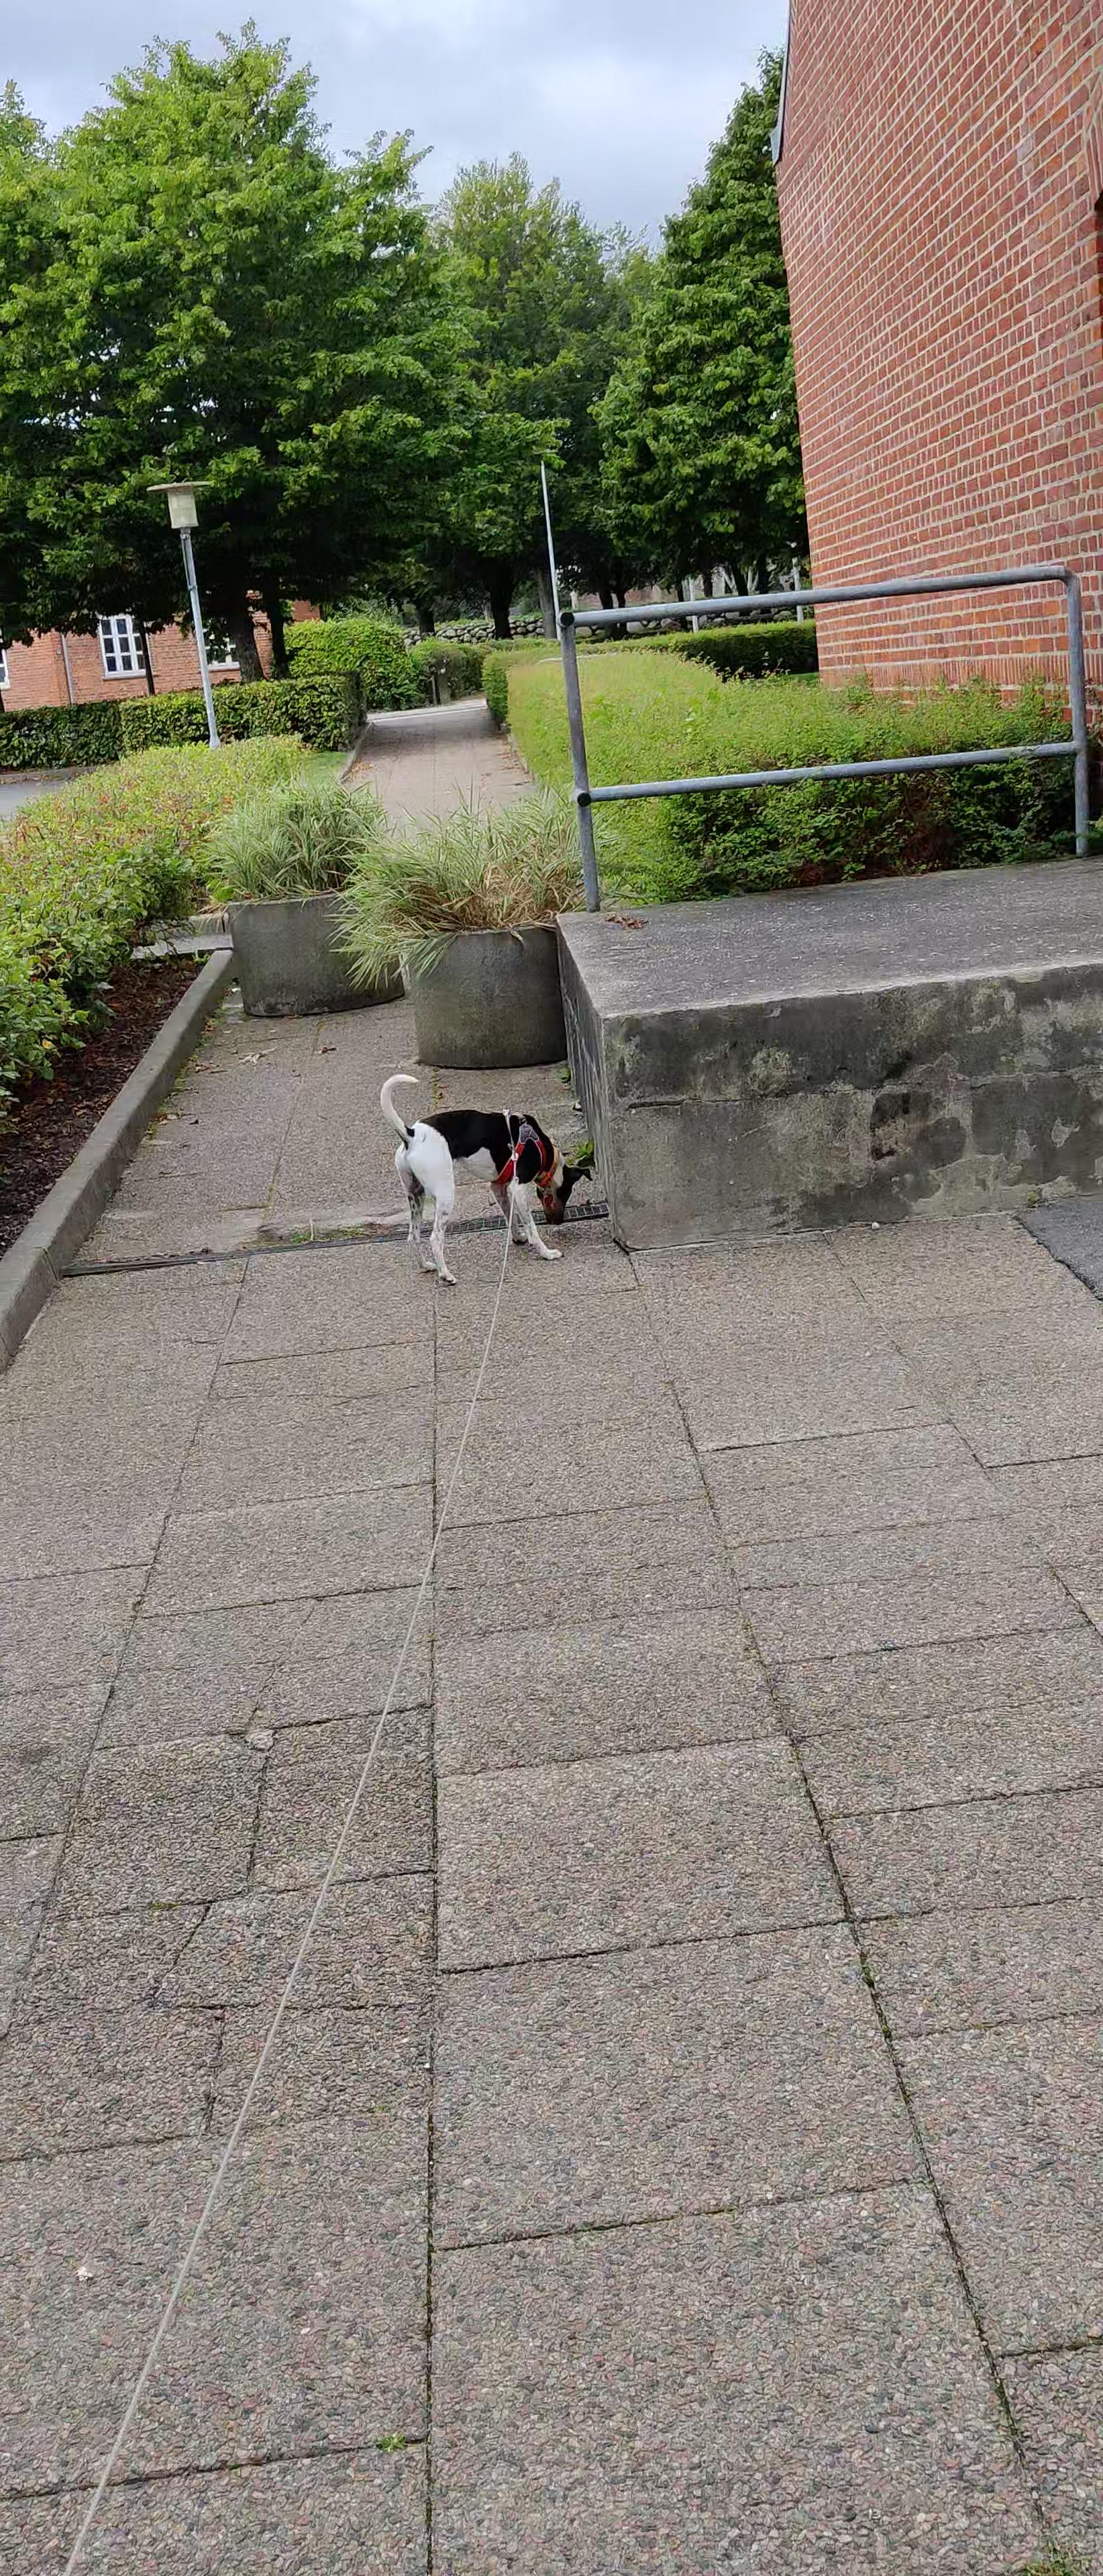Dog: (365, 1058, 598, 1293)
